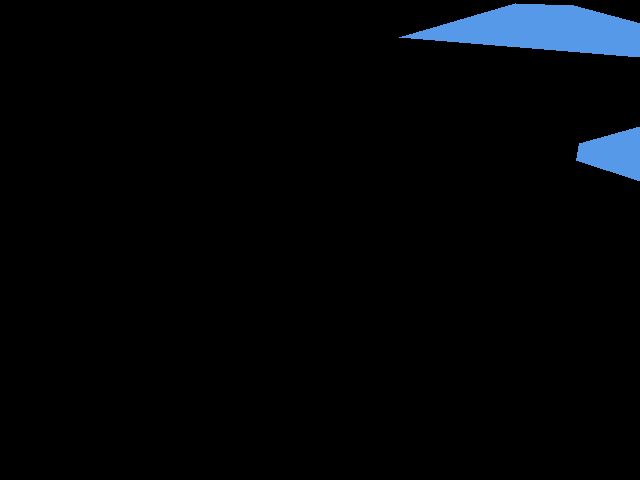Airplane: (399, 3, 640, 182)
